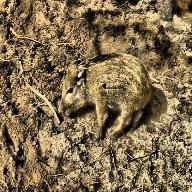boar: (33, 34, 178, 156)
